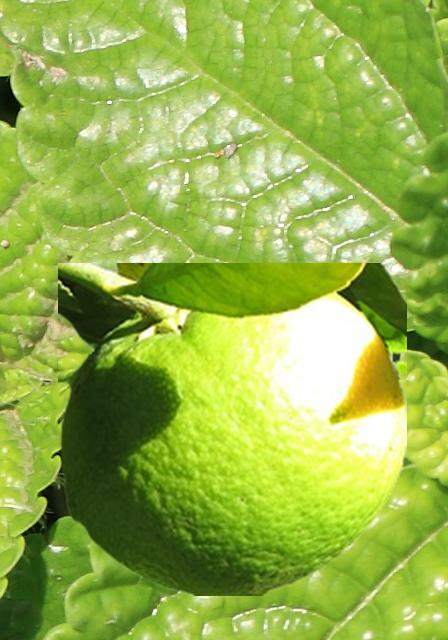dalandan: (58, 263, 405, 594)
